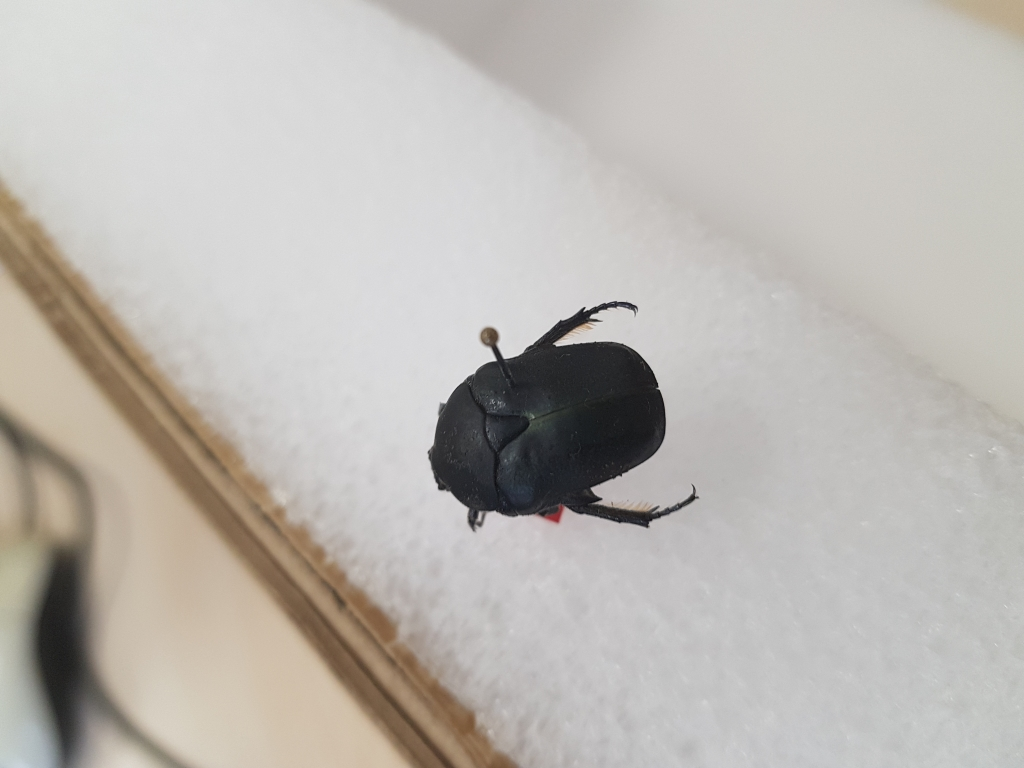Protaetia_afflicta: (415, 293, 712, 546)
